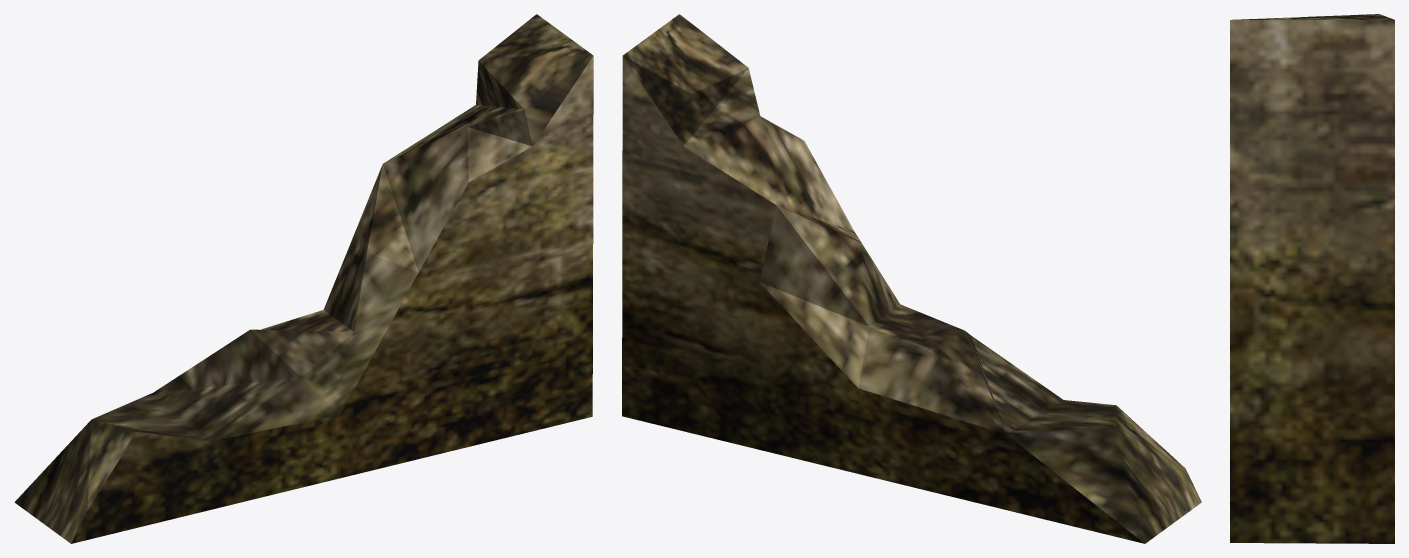
3 views of the same model, side by side, from view 1: azimuth 30°, elevation 25°; view 2: azimuth 150°, elevation 25°; view 3: azimuth 270°, elevation 25° (orthographic). The views are drawn at different scales.
Visible parts, largest first — view 1: a15; view 2: a15; view 3: a15.
Boxes of the visible parts, x1,y1,x2,y2 form: a15: (14,14,593,543); a15: (622,14,1201,543); a15: (1230,14,1394,543).
Bounding box in the file's own units: 764 × 504 × 144.
1 material, 1 textured.
